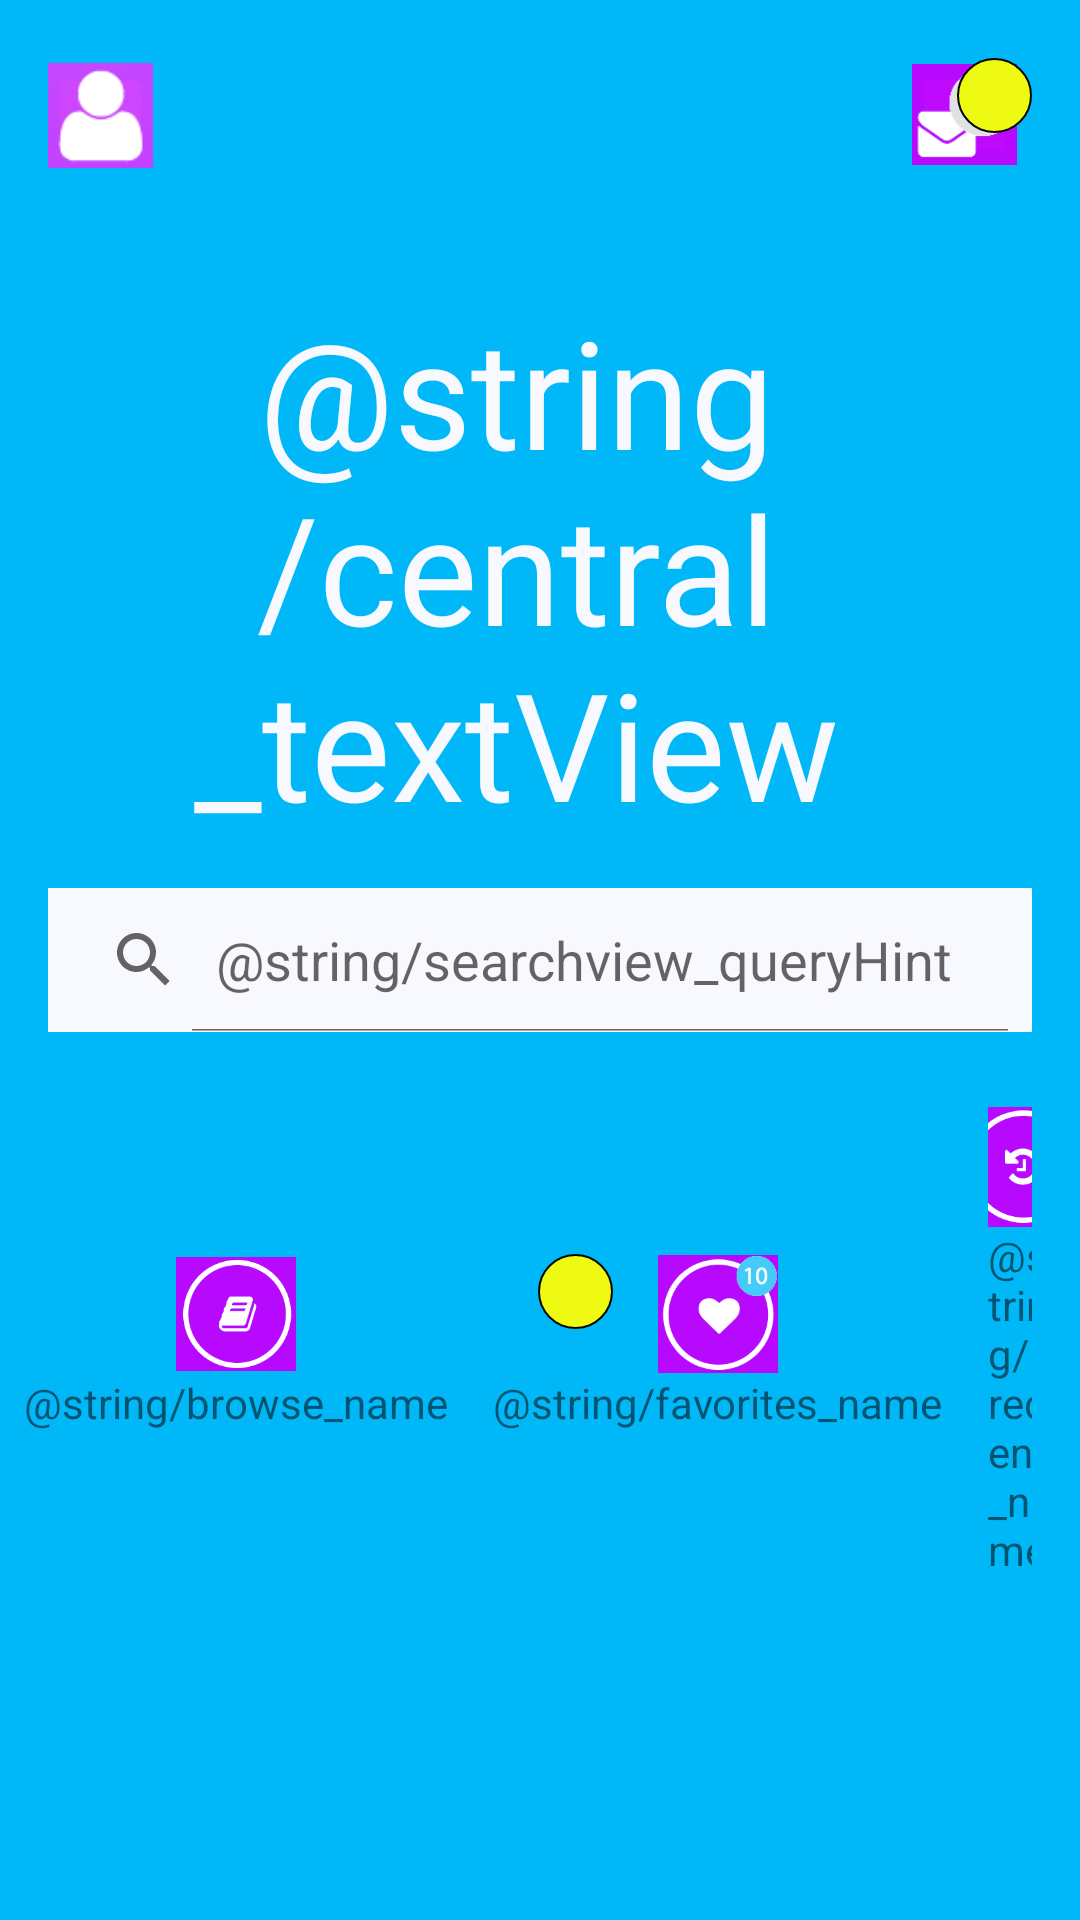

Icon click points for this 1080×1920 phone screenshot, format (x,y):
profile: (100,115)
